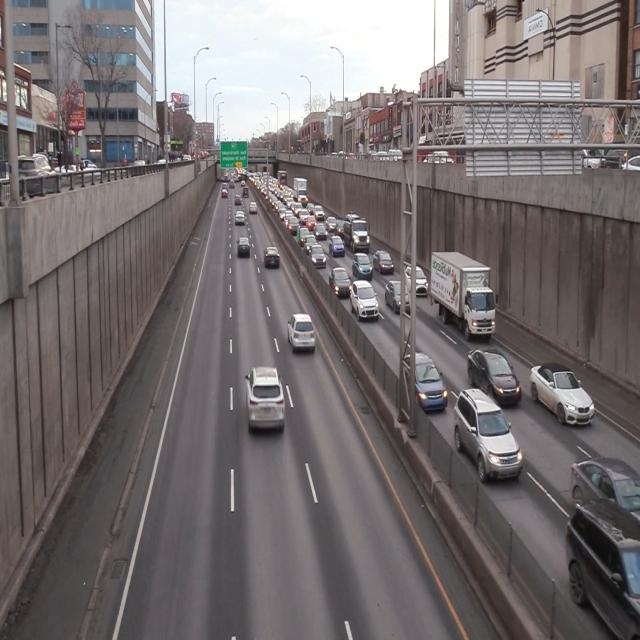Car: (454, 390, 522, 483), (433, 250, 495, 342), (530, 362, 595, 430), (397, 354, 447, 414), (246, 365, 286, 434), (468, 350, 520, 403), (289, 312, 315, 355), (352, 280, 378, 320), (386, 280, 412, 314), (344, 218, 371, 250), (328, 267, 352, 299), (406, 263, 429, 296), (352, 255, 373, 281), (374, 250, 394, 276), (263, 247, 280, 269), (310, 246, 325, 267), (329, 238, 345, 257), (237, 238, 250, 260), (234, 210, 244, 225), (248, 202, 258, 215)
